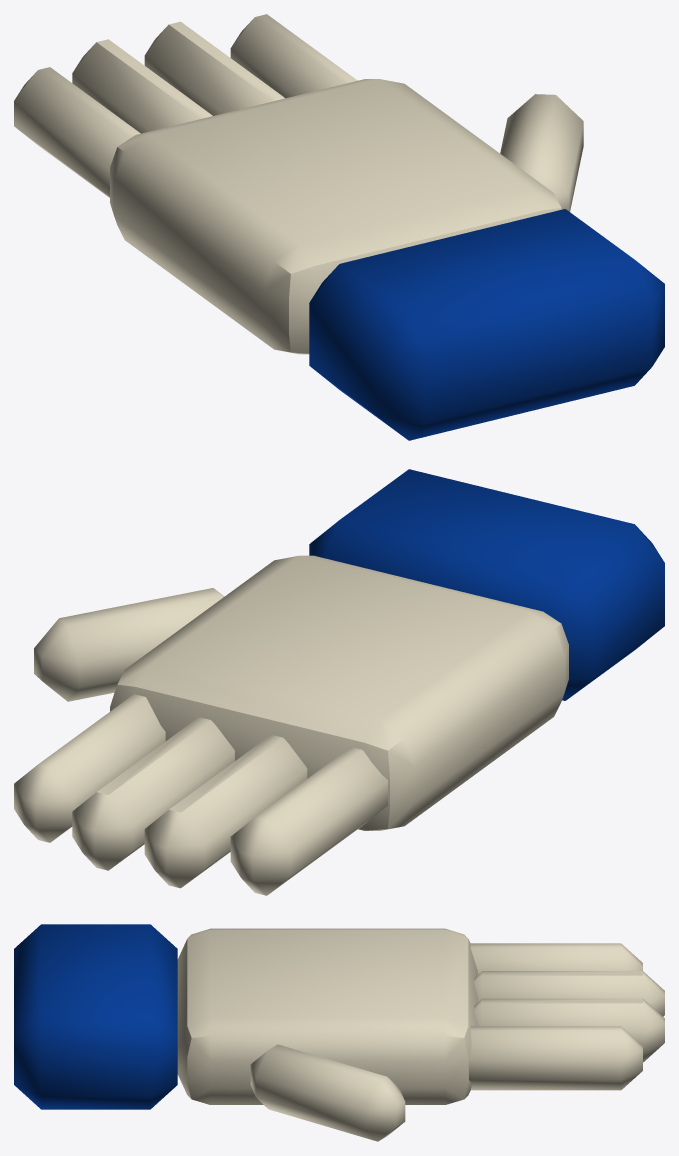
File: SM_Flot_Guante.fbx
The picture shows the model from 3 angles, top to bottom: view 1: azimuth 30°, elevation 25°; view 2: azimuth 150°, elevation 25°; view 3: azimuth 270°, elevation 25°; orthographic projection. The views are drawn at different scales.
Parts seen in each view (by area): view 1: SM_Flot_Guante; view 2: SM_Flot_Guante; view 3: SM_Flot_Guante.
Boxes of the visible parts, x1,y1,x2,y2 form: SM_Flot_Guante: (14,14,664,440); SM_Flot_Guante: (14,469,664,895); SM_Flot_Guante: (14,924,664,1141).
Bounding box in the file's own units: 0.1391 × 0.04 × 0.2385.
